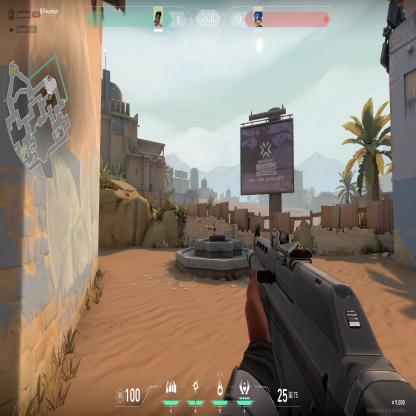enemy: (208, 220, 217, 235)
